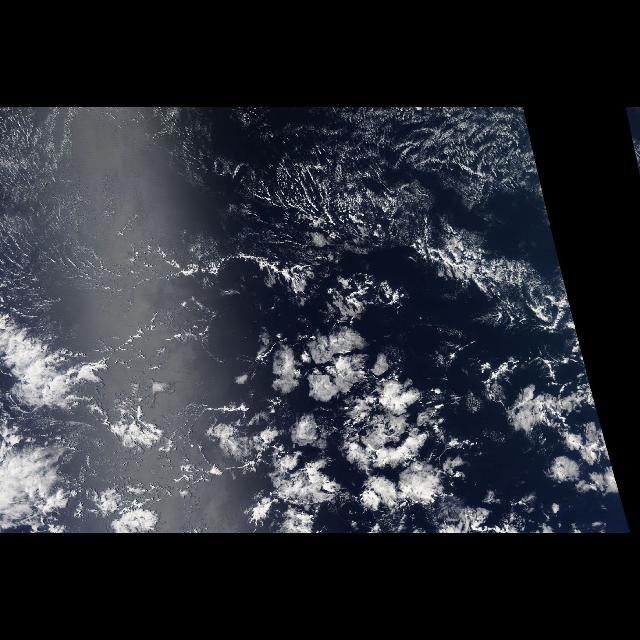Flower: (195, 323, 631, 533)
Sugar: (4, 110, 546, 270)
